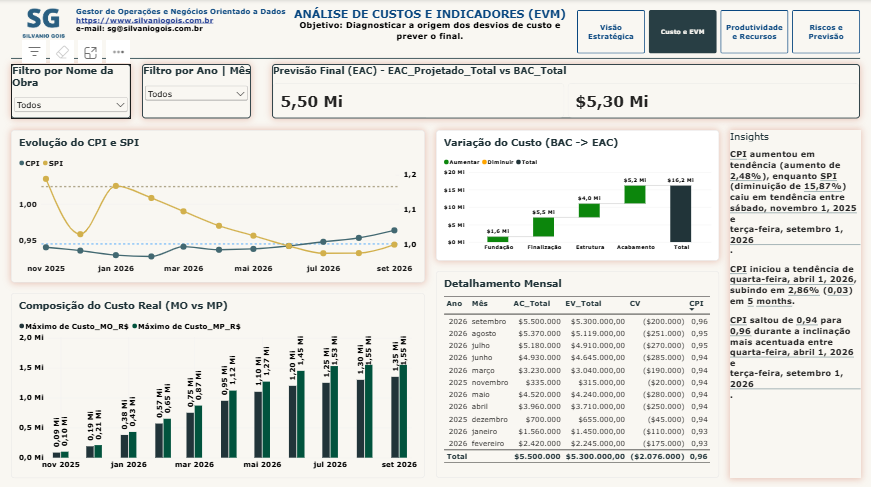

The dashboard page shown, as its layout file describes it:
{"tool":"powerbi","page":{"name":"Custo e EVM","canvas":[1920,1080],"ordinal":1},"visuals":[{"type":"image","box":[24,0,144,96],"z":0},{"type":"textbox","box":[168,0,480,96],"z":1000},{"type":"textbox","box":[624,0,648,120],"z":2000},{"type":"pageNavigator","box":[1272,24,624,96],"z":3000},{"type":"shape","box":[24,120,1872,24],"z":4000},{"type":"lineChart","title":"Evolução do CPI e SPI","fields":{"Category":["Obras.Data_Referencia"],"Y":["MedidasDesempenhoEVM.CPI"],"Y2":["MedidasDesempenhoEVM.SPI"]},"box":[24,288,912,336],"z":5000},{"type":"slicer","title":"Filtro por Nome da Obra","fields":{"Values":["Obras.Nome_Obra"]},"box":[24,144,264,120],"z":6000},{"type":"slicer","title":"Filtro por Ano | Mês","fields":{"Values":["Obras.Data_Referencia.Variation.Hierarquia de datas.Ano","Obras.Data_Referencia.Variation.Hierarquia de datas.Mês"]},"box":[312,144,240,120],"z":7000},{"type":"clusteredColumnChart","title":"Composição do Custo Real (MO vs MP)","fields":{"Category":["Obras.Data_Referencia"],"Y":["Max(Obras.Custo_MO_R$)","Max(Obras.Custo_MP_R$)"]},"box":[24,648,912,408],"z":8000},{"type":"waterfallChart","title":"Variação do Custo (BAC -> EAC)","fields":{"Category":["Obras.Etapa"],"Y":["MedidasCorrigidas.AC_Correto"]},"box":[960,288,624,288],"z":9000},{"type":"cardVisual","title":"Previsão Final (EAC) - EAC_Projetado_Total vs BAC_Total","fields":{"Data":["MedidasCorrigidas.EAC_Correto","MedidasGeralCards.BAC_Total"]},"box":[600,144,1296,120],"z":10000},{"type":"tableEx","title":"Detalhamento Mensal","fields":{"Values":["Obras.Data_Referencia.Variation.Hierarquia de datas.Ano","Obras.Data_Referencia.Variation.Hierarquia de datas.Mês","MedidasCorrigidas.AC_Correto","MedidasCorrigidas.EV_Correto","MedidasDesempenhoEVM.CV","MedidasCorrigidas.CPI_Correto"]},"box":[960,600,624,456],"z":11000},{"type":"textbox","title":"Insights","box":[1608,288,288,768],"z":11001}]}

Visuals, with their boxes in screenshot pixels (x1, y1, x2, y2), scaled from the page's 1920x1080 canvas onto the 871x487 screenshot:
image: x1=11, y1=0, x2=76, y2=43
textbox: x1=76, y1=0, x2=294, y2=43
textbox: x1=283, y1=0, x2=577, y2=54
pageNavigator: x1=577, y1=11, x2=860, y2=54
shape: x1=11, y1=54, x2=860, y2=65
"Evolução do CPI e SPI" lineChart: x1=11, y1=130, x2=425, y2=281
"Filtro por Nome da Obra" slicer: x1=11, y1=65, x2=131, y2=119
"Filtro por Ano | Mês" slicer: x1=142, y1=65, x2=250, y2=119
"Composição do Custo Real (MO vs MP)" clusteredColumnChart: x1=11, y1=292, x2=425, y2=476
"Variação do Custo (BAC -> EAC)" waterfallChart: x1=436, y1=130, x2=719, y2=260
"Previsão Final (EAC) - EAC_Projetado_Total vs BAC_Total" cardVisual: x1=272, y1=65, x2=860, y2=119
"Detalhamento Mensal" tableEx: x1=436, y1=271, x2=719, y2=476
"Insights" textbox: x1=729, y1=130, x2=860, y2=476
